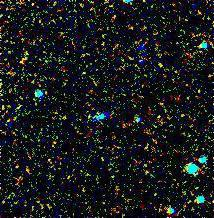star: (10, 45, 40, 75)
